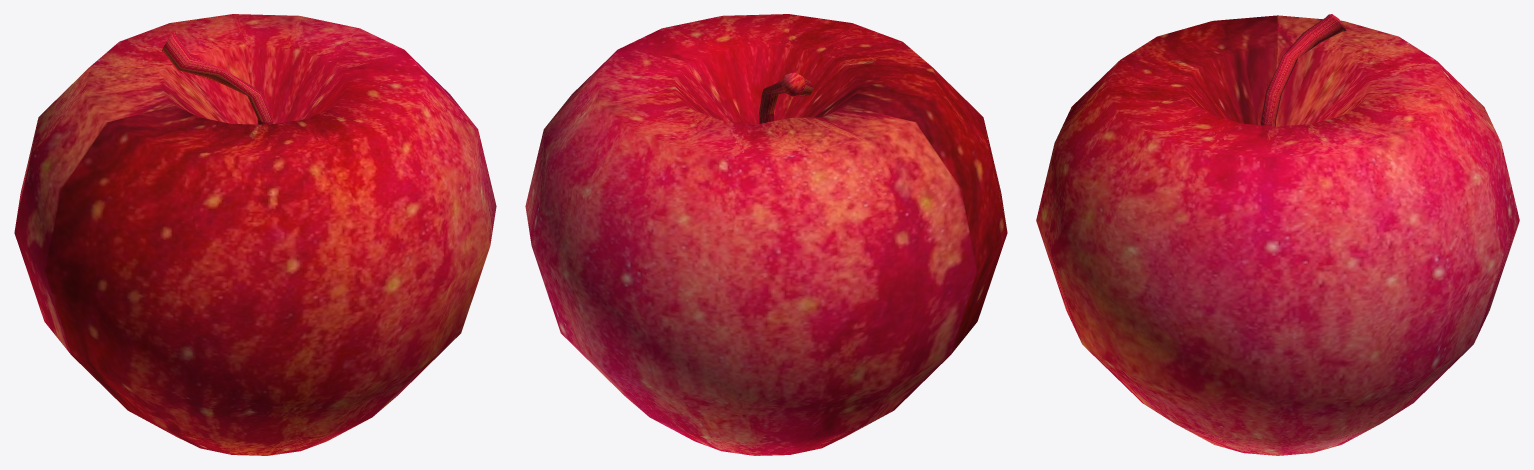
The model's file is Apple.glb.
3 renders of one model, left to right at view 1: azimuth 30°, elevation 25°; view 2: azimuth 150°, elevation 25°; view 3: azimuth 270°, elevation 25°, orthographic.
Visible parts, largest first — view 1: apple; view 2: apple; view 3: apple.
Part boxes in pixels (x1=…): apple: x1=14, y1=14, x2=496, y2=455; apple: x1=525, y1=14, x2=1007, y2=455; apple: x1=1036, y1=14, x2=1519, y2=455.
Bounding box in the file's own units: 0.8 × 0.6884 × 0.8.
Materials: 1 (1 with a texture image).
